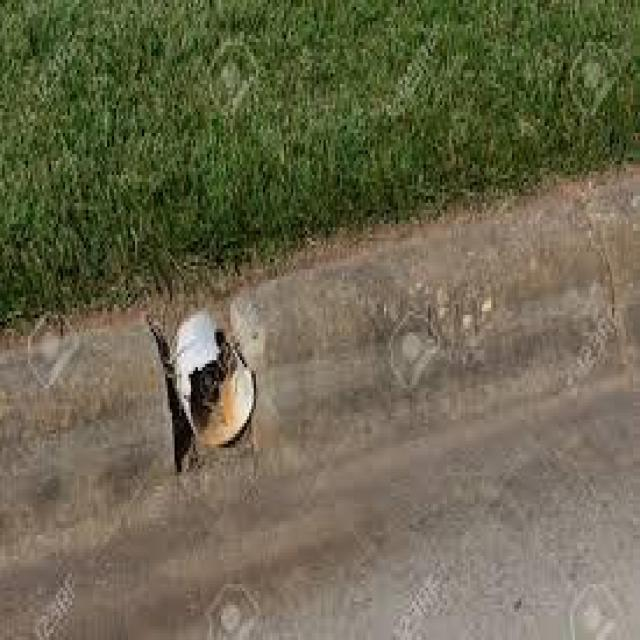curb: (226, 183, 619, 464), (3, 300, 179, 553)
